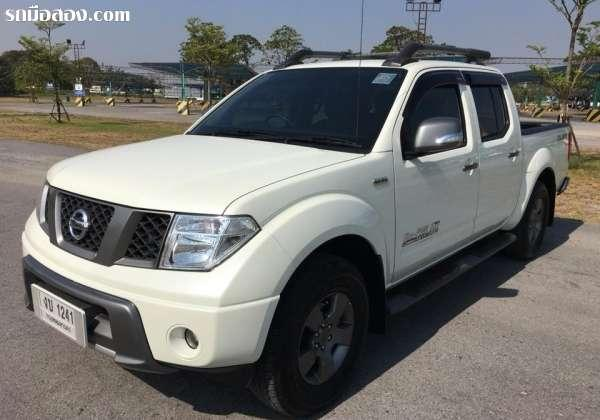pickup: (20, 53, 573, 417)
